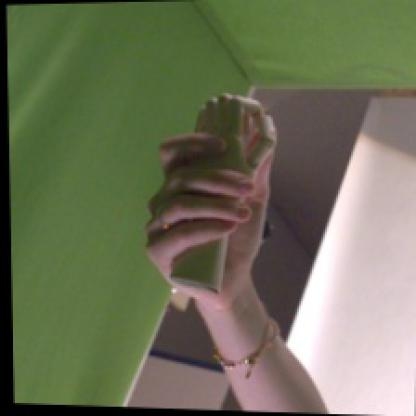Hand: (145, 128, 270, 303)
